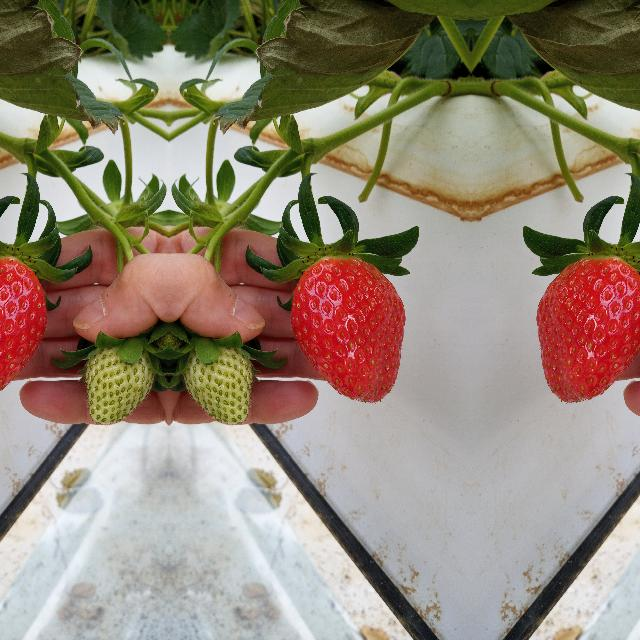Health_100: (289, 254, 405, 404), (536, 254, 640, 403), (0, 254, 47, 403)
